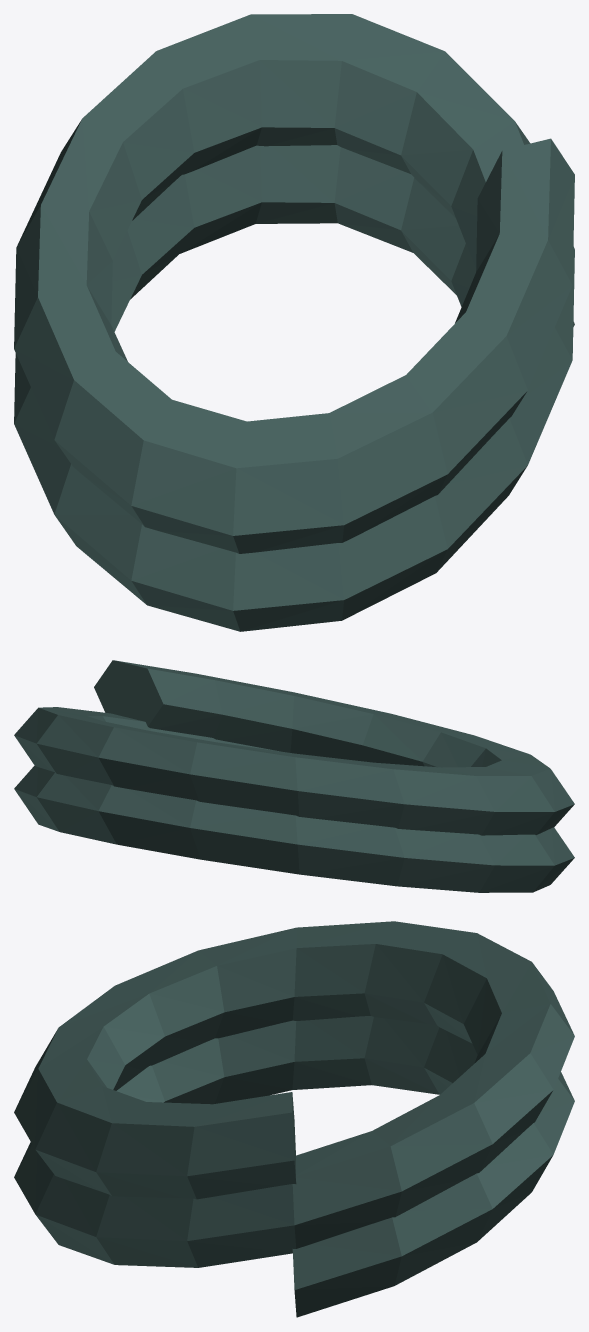
The model's file is Spring_Coil.gltf.
3 views of the same model, one above another, from view 1: azimuth 30°, elevation 25°; view 2: azimuth 150°, elevation 25°; view 3: azimuth 270°, elevation 25° (orthographic). The views are drawn at different scales.
Visible parts, largest first — view 1: Spring_Coil_baked; view 2: Spring_Coil_baked; view 3: Spring_Coil_baked.
Boxes of the visible parts, x1,y1,x2,y2 form: Spring_Coil_baked: (14,14,574,631); Spring_Coil_baked: (14,660,574,892); Spring_Coil_baked: (14,921,574,1317).
Bounding box in the file's own units: 0.5212 × 0.2803 × 0.484.
